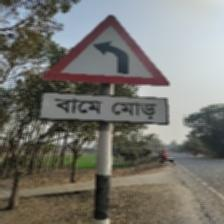Left-Turn: (39, 13, 174, 124)
